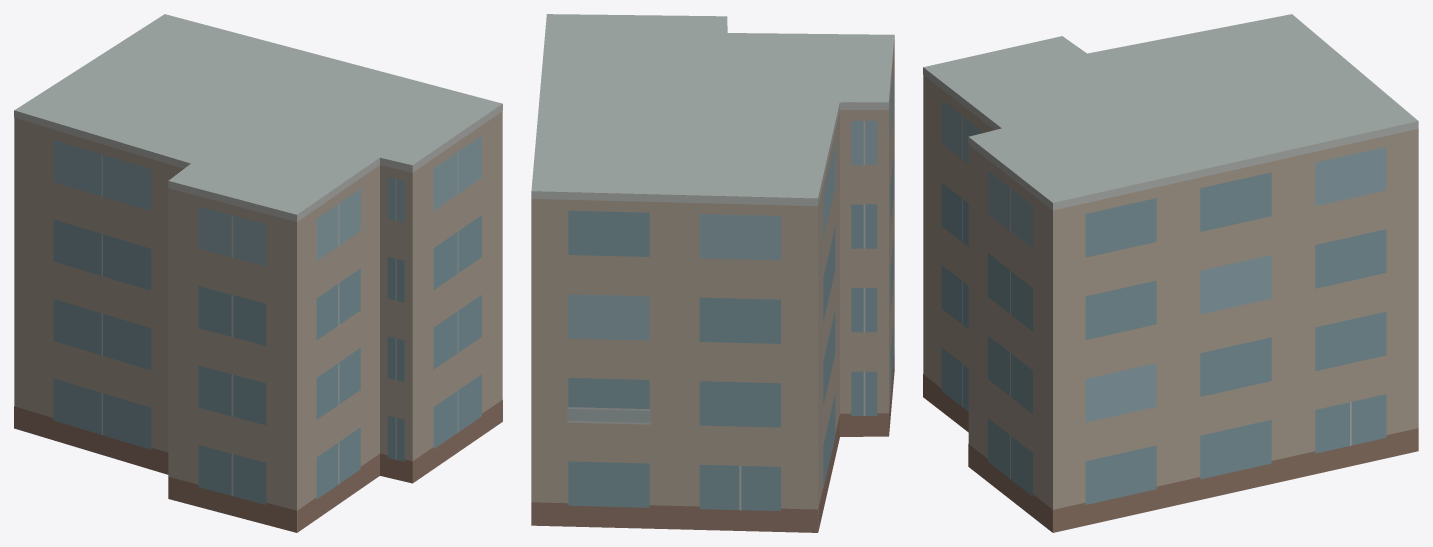
The model's file is survey-upis-32773624.glb.
3 renders of one model, left to right at view 1: azimuth 30°, elevation 25°; view 2: azimuth 150°, elevation 25°; view 3: azimuth 270°, elevation 25°, orthographic. The views are drawn at different scales.
Visible parts, largest first — view 1: survey-upis-32773624.tmp; view 2: survey-upis-32773624.tmp; view 3: survey-upis-32773624.tmp.
Part boxes in pixels (bbox=[...]): survey-upis-32773624.tmp: bbox=[14, 14, 502, 532]; survey-upis-32773624.tmp: bbox=[531, 14, 894, 532]; survey-upis-32773624.tmp: bbox=[923, 14, 1418, 532].
Size of the model in its own units: 13.03 by 10.6 by 14.44.
